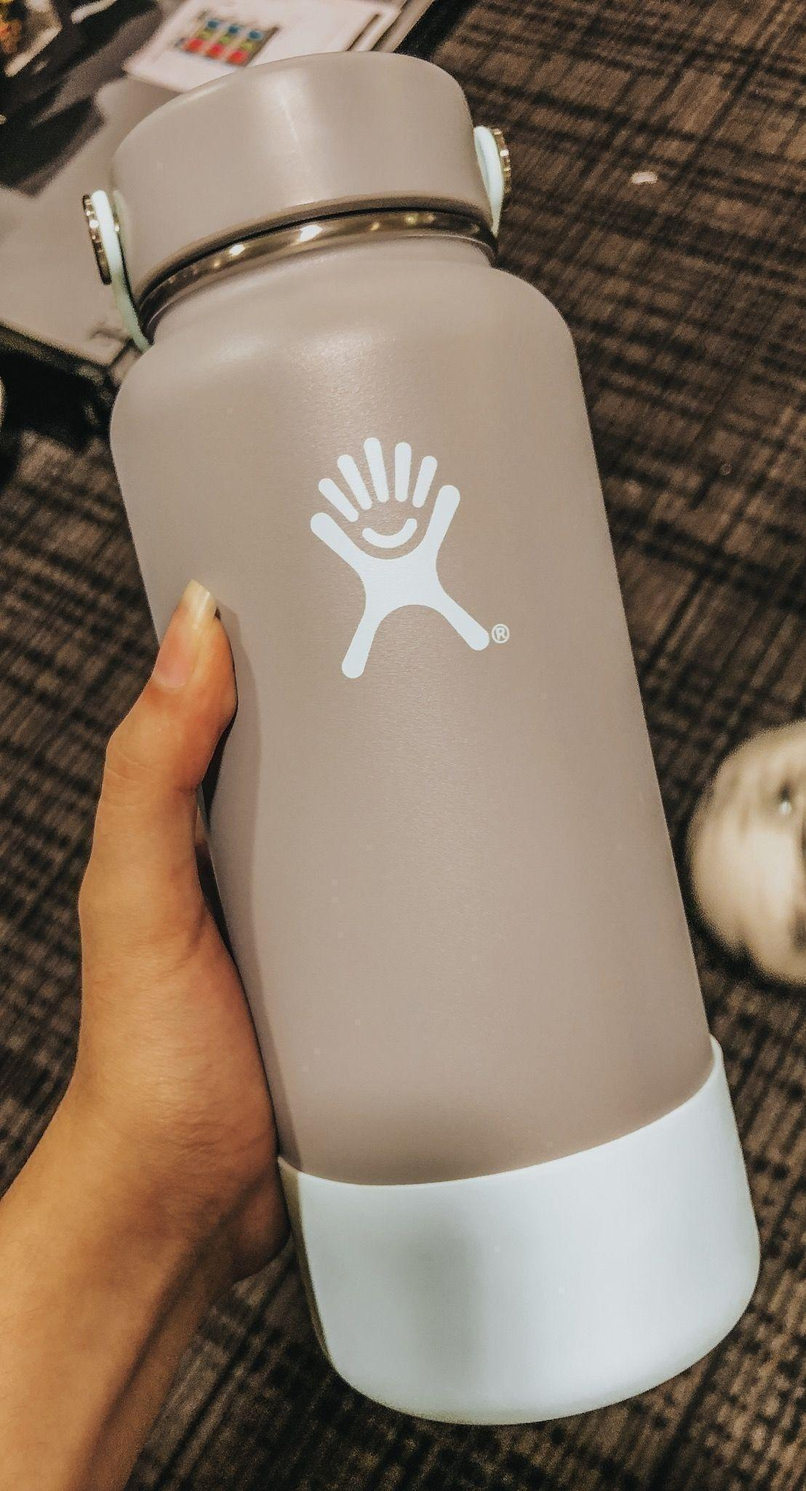gym bottle: (87, 47, 762, 1423)
